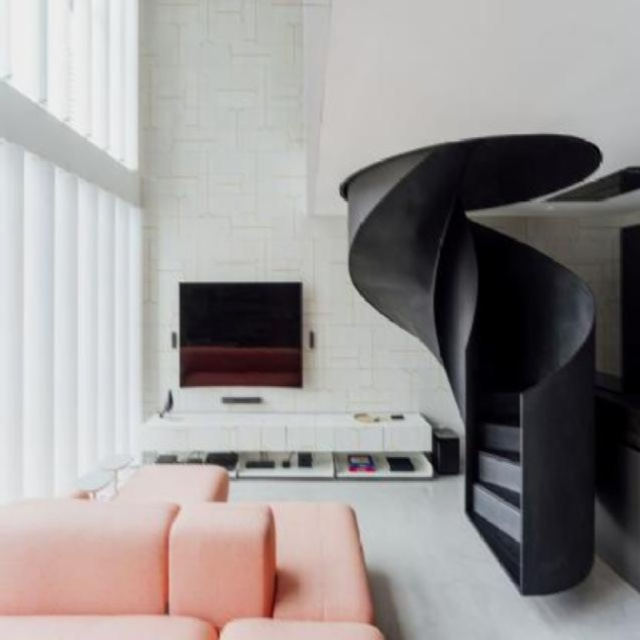stair: (457, 199, 611, 604)
